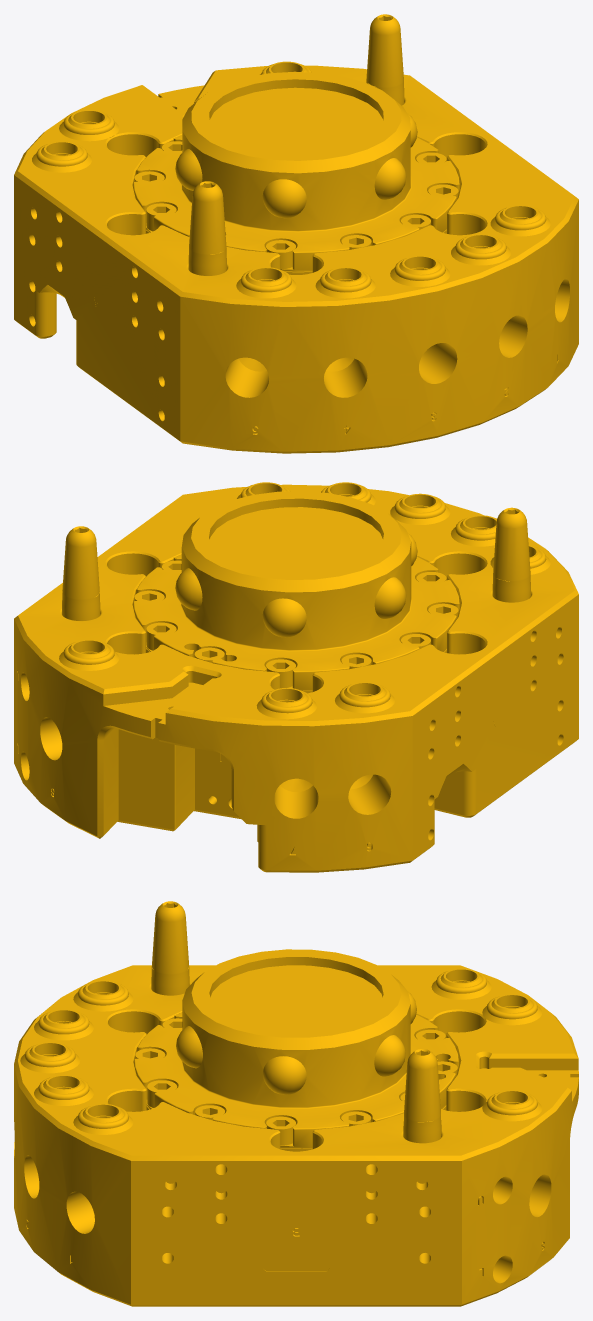
3 views of the same model, one above another, from view 1: azimuth 30°, elevation 25°; view 2: azimuth 150°, elevation 25°; view 3: azimuth 270°, elevation 25° (orthographic).
Visible parts, largest first — view 1: node0; view 2: node0; view 3: node0.
Boxes of the visible parts, x1,y1,x2,y2 form: node0: (14,14,578,453); node0: (14,482,578,872); node0: (14,901,578,1306).
Bounding box in the file's own units: 0.1524 × 0.1879 × 0.0855.
